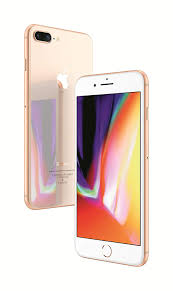iphone: (71, 68, 153, 271)
iphone8: (69, 69, 151, 272)
